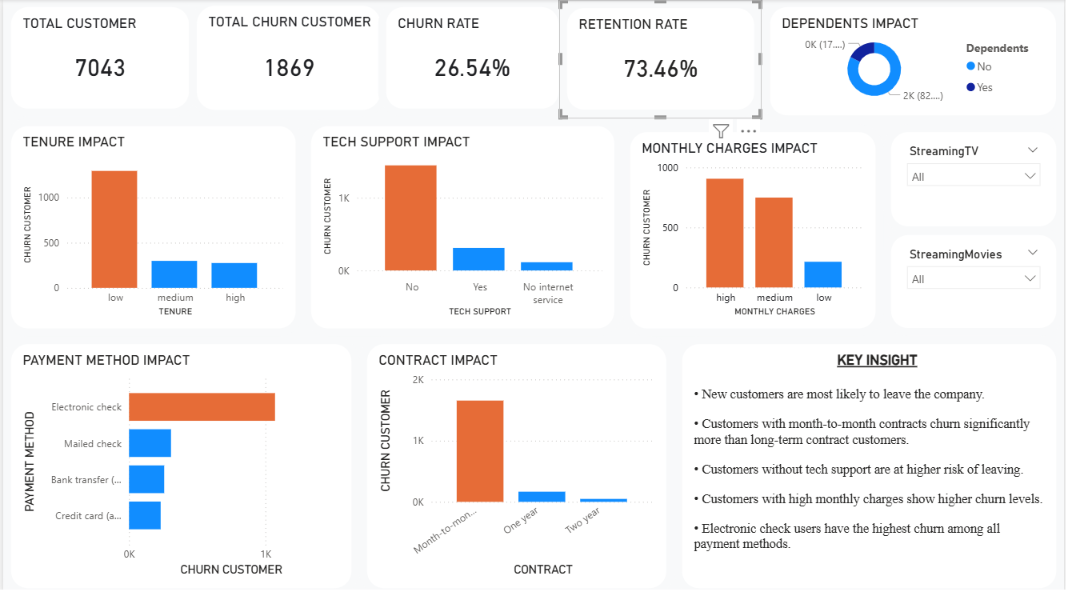

The dashboard page shown, as its layout file describes it:
{"tool":"powerbi","page":{"name":"Page 1","canvas":[1280,720],"ordinal":0},"visuals":[{"type":"card","title":"TOTAL CHURN CUSTOMER","fields":{"Values":["Sum(clean_churn.Churn)"]},"box":[225.7,0,237.8,141.9],"z":0},{"type":"card","title":"CHURN RATE","fields":{"Values":["clean_churn.CHURN RATE"]},"box":[452.7,0,227,141.9],"z":1000},{"type":"card","title":"TOTAL CUSTOMER","fields":{"Values":["clean_churn.TOTAL CUSTOMER"]},"box":[0,0,233.8,141.9],"z":2000},{"type":"columnChart","title":" MONTHLY CHARGES IMPACT","fields":{"Y":["Sum(clean_churn.Churn)"],"Category":["clean_churn.MonthlyCharges_group"]},"box":[746.8,150.8,314.9,255.8],"z":3000},{"type":"clusteredBarChart","title":"PAYMENT METHOD IMPACT","fields":{"Y":["Sum(clean_churn.Churn)"],"Category":["clean_churn.PaymentMethod"]},"box":[0,406.6,429.5,313.7],"z":4000},{"type":"columnChart","title":" TENURE IMPACT","fields":{"Y":["Sum(clean_churn.Churn)"],"Category":["clean_churn.tenure_group"]},"box":[0,143.2,362.2,263.5],"z":5000},{"type":"columnChart","title":" TECH SUPPORT IMPACT","fields":{"Y":["Sum(clean_churn.Churn)"],"Category":["clean_churn.TechSupport"]},"box":[362.2,143.2,385.1,263.5],"z":6000},{"type":"textbox","title":"KEY INSIGHT","box":[809.5,406.6,470.5,313.7],"z":7000},{"type":"card","title":"RETENTION RATE","fields":{"Values":["clean_churn.RETENION RATE"]},"box":[670.3,1.4,244.6,141.9],"z":8000},{"type":"bookmarkNavigator","box":[0,0,600,50],"z":9000},{"type":"clusteredColumnChart","title":" CONTRACT IMPACT","fields":{"Y":["Sum(clean_churn.Churn)"],"Category":["clean_churn.Contract"]},"box":[429.5,406.6,380,313.7],"z":10000},{"type":"slicer","fields":{"Values":["clean_churn.StreamingTV"]},"box":[1061.7,150.8,218.4,132.7],"z":11000},{"type":"slicer","fields":{"Values":["clean_churn.StreamingMovies"]},"box":[1061.7,275.1,218.4,131.5],"z":12000},{"type":"donutChart","title":"DEPENDENT STATUS","fields":{"Y":["Sum(clean_churn.Churn)"],"Series":["clean_churn.Dependents"]},"box":[915.7,0,364.3,149.6],"z":13000}]}

Visuals, with their boxes in screenshot pixels (x1, y1, x2, y2), scaled from the page's 1280x720 canvas onto the 1066x590 screenshot:
"TOTAL CHURN CUSTOMER" card: {"left": 188, "top": 0, "right": 386, "bottom": 116}
"CHURN RATE" card: {"left": 377, "top": 0, "right": 566, "bottom": 116}
"TOTAL CUSTOMER" card: {"left": 0, "top": 0, "right": 195, "bottom": 116}
" MONTHLY CHARGES IMPACT" columnChart: {"left": 622, "top": 124, "right": 884, "bottom": 333}
"PAYMENT METHOD IMPACT" clusteredBarChart: {"left": 0, "top": 333, "right": 358, "bottom": 589}
" TENURE IMPACT" columnChart: {"left": 0, "top": 117, "right": 302, "bottom": 333}
" TECH SUPPORT IMPACT" columnChart: {"left": 302, "top": 117, "right": 622, "bottom": 333}
"KEY INSIGHT" textbox: {"left": 674, "top": 333, "right": 1065, "bottom": 589}
"RETENTION RATE" card: {"left": 558, "top": 1, "right": 762, "bottom": 117}
bookmarkNavigator: {"left": 0, "top": 0, "right": 500, "bottom": 41}
" CONTRACT IMPACT" clusteredColumnChart: {"left": 358, "top": 333, "right": 674, "bottom": 589}
slicer - clean_churn.StreamingTV: {"left": 884, "top": 124, "right": 1065, "bottom": 232}
slicer - clean_churn.StreamingMovies: {"left": 884, "top": 225, "right": 1065, "bottom": 333}
"DEPENDENT STATUS" donutChart: {"left": 763, "top": 0, "right": 1065, "bottom": 123}
